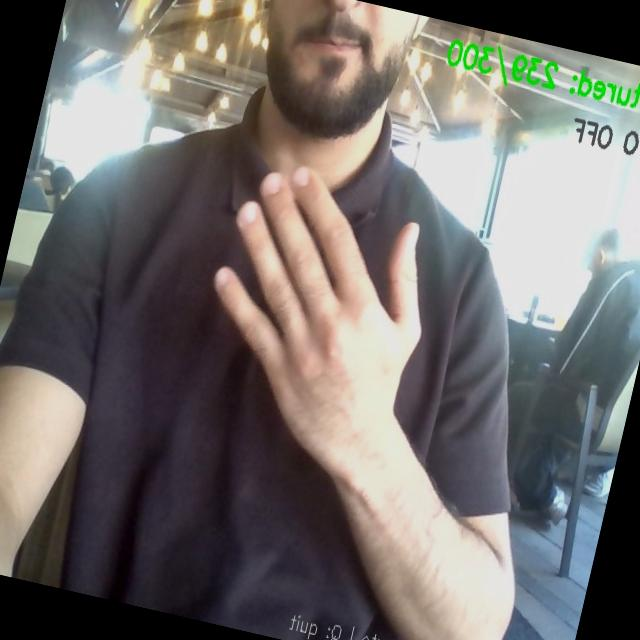Hand: (215, 168, 420, 472)
